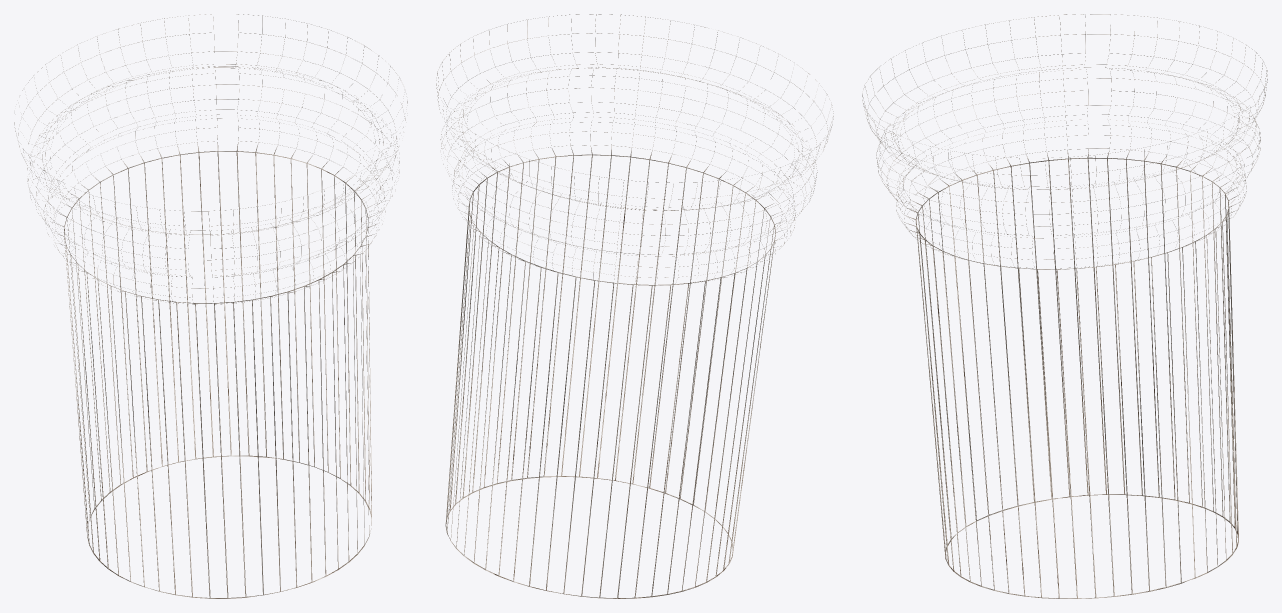
Rendered from asset.glb.
3 renders of one model, left to right at view 1: azimuth 30°, elevation 25°; view 2: azimuth 150°, elevation 25°; view 3: azimuth 270°, elevation 25°, orthographic. The views are drawn at different scales.
Parts seen in each view (by area): view 1: Pillar41; view 2: Pillar41; view 3: Pillar41.
Boxes of the visible parts, left/top/right/bottom form: Pillar41: left=14, top=14, right=407, bottom=598; Pillar41: left=436, top=14, right=833, bottom=598; Pillar41: left=862, top=14, right=1267, bottom=598.
Size of the model in its own units: 0.8868 by 1.15 by 0.8879.
Materials: 1 (1 with a texture image).
